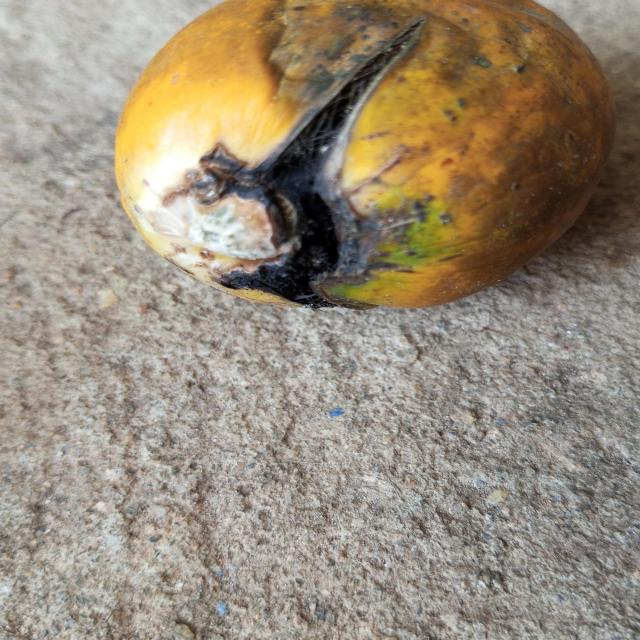damaged: (112, 0, 615, 312)
